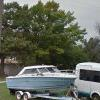Boat: (6, 57, 77, 96)
